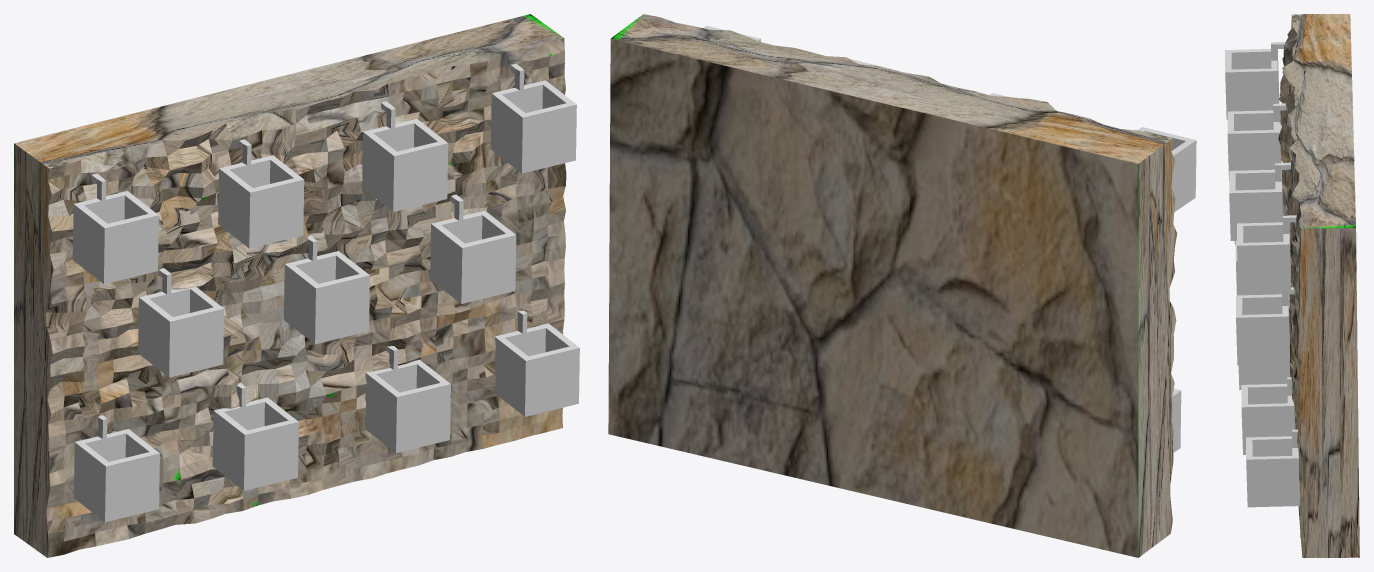
Rendered from Wall-plants.fbx.
The picture shows the model from 3 angles, left to right: view 1: azimuth 30°, elevation 25°; view 2: azimuth 150°, elevation 25°; view 3: azimuth 270°, elevation 25°; orthographic projection. The views are drawn at different scales.
Visible parts, largest first — view 1: Cube, Cube.006, Cube.001, Cube.004, Cube.005, Cube.002, Cube.007, Cube.008, Cube.003, Cube.010, Cube.009, Cube.011; view 2: Cube, Cube.001; view 3: Cube, Cube.005, Cube.004, Cube.011, Cube.001, Cube.002, Cube.006, Cube.010, Cube.009, Cube.007.
Boxes of the visible parts, bbox=[...] form: Cube: bbox=[14, 14, 566, 557]; Cube.006: bbox=[362, 101, 448, 211]; Cube.001: bbox=[72, 173, 158, 284]; Cube.004: bbox=[430, 194, 516, 303]; Cube.005: bbox=[490, 63, 576, 173]; Cube.002: bbox=[218, 139, 304, 248]; Cube.007: bbox=[284, 235, 369, 344]; Cube.008: bbox=[138, 268, 224, 377]; Cube.003: bbox=[73, 415, 159, 522]; Cube.010: bbox=[364, 346, 450, 452]; Cube.009: bbox=[212, 382, 298, 490]; Cube.011: bbox=[493, 310, 579, 416]; Cube: bbox=[608, 14, 1177, 557]; Cube.001: bbox=[1137, 127, 1196, 211]; Cube: bbox=[1278, 14, 1359, 557]; Cube.005: bbox=[1237, 215, 1296, 293]; Cube.004: bbox=[1236, 287, 1294, 365]; Cube.011: bbox=[1246, 429, 1300, 507]; Cube.001: bbox=[1225, 42, 1285, 119]; Cube.002: bbox=[1227, 103, 1286, 181]; Cube.006: bbox=[1229, 162, 1290, 240]; Cube.010: bbox=[1241, 377, 1295, 454]; Cube.009: bbox=[1238, 364, 1290, 389]; Cube.007: bbox=[1235, 240, 1289, 307].
Size of the model in its own units: 525 by 377 by 140.
Materials: 1 (1 with a texture image).
